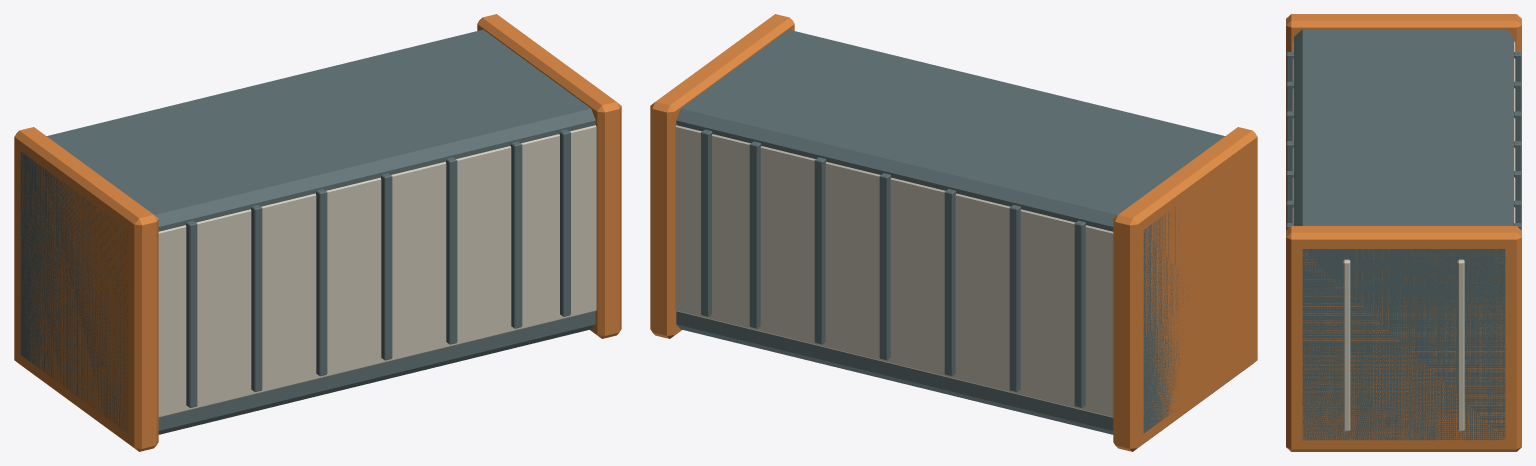
File: cargo.glb
The picture shows the model from 3 angles, left to right: view 1: azimuth 30°, elevation 25°; view 2: azimuth 150°, elevation 25°; view 3: azimuth 270°, elevation 25°; orthographic projection. The views are drawn at different scales.
Parts seen in each view (by area): view 1: cargo; view 2: cargo; view 3: cargo.
Part boxes in pixels (x1=…): cargo: x1=14, y1=14, x2=621, y2=451; cargo: x1=650, y1=14, x2=1257, y2=451; cargo: x1=1286, y1=14, x2=1521, y2=451.
Size of the model in its own units: 6.07 by 2.75 by 2.68.
